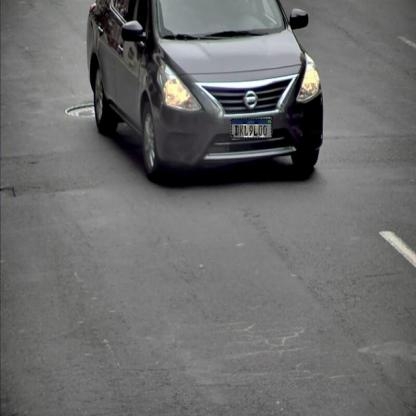PlacaM: (231, 118, 272, 139)
